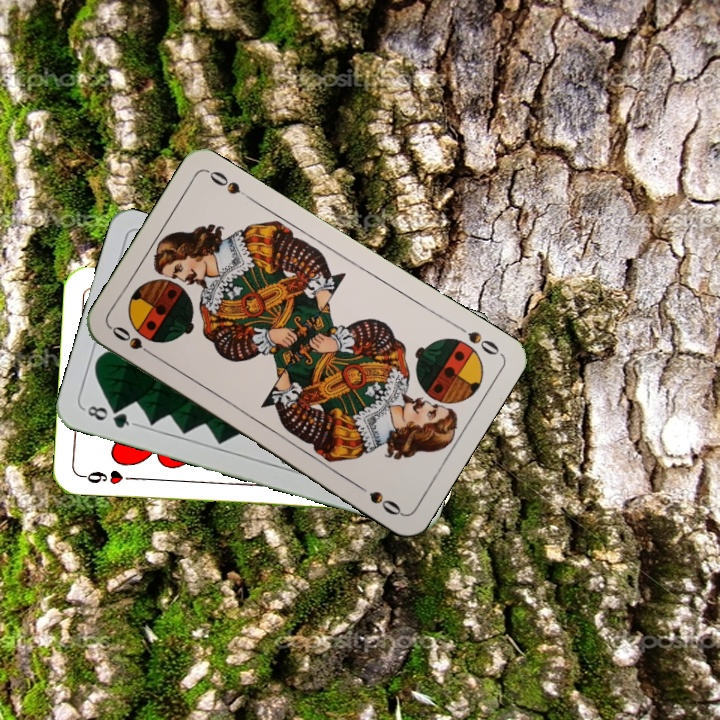G8: (80, 401, 138, 431)
H9: (77, 466, 136, 487)
SO: (107, 322, 160, 361), (451, 320, 502, 358)
